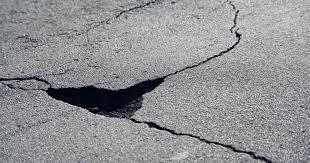crack: (128, 114, 272, 163), (162, 1, 243, 80), (112, 0, 157, 22), (0, 74, 52, 93)
pothole: (44, 74, 165, 119)
